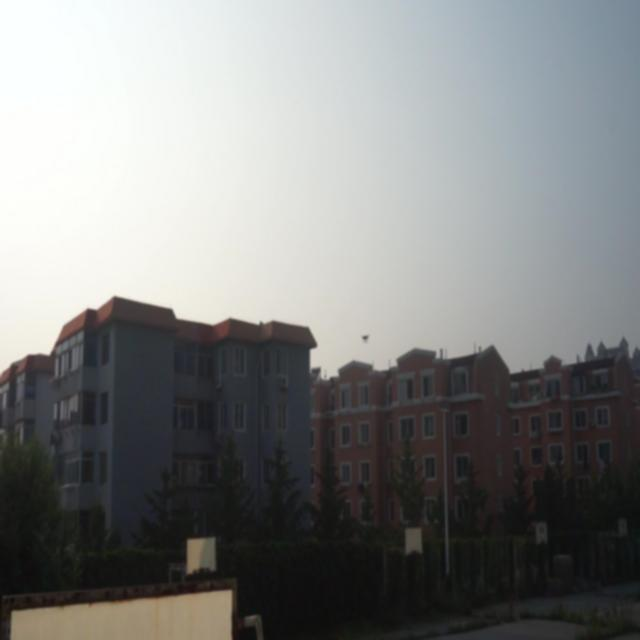UAV: (360, 334, 370, 344)
